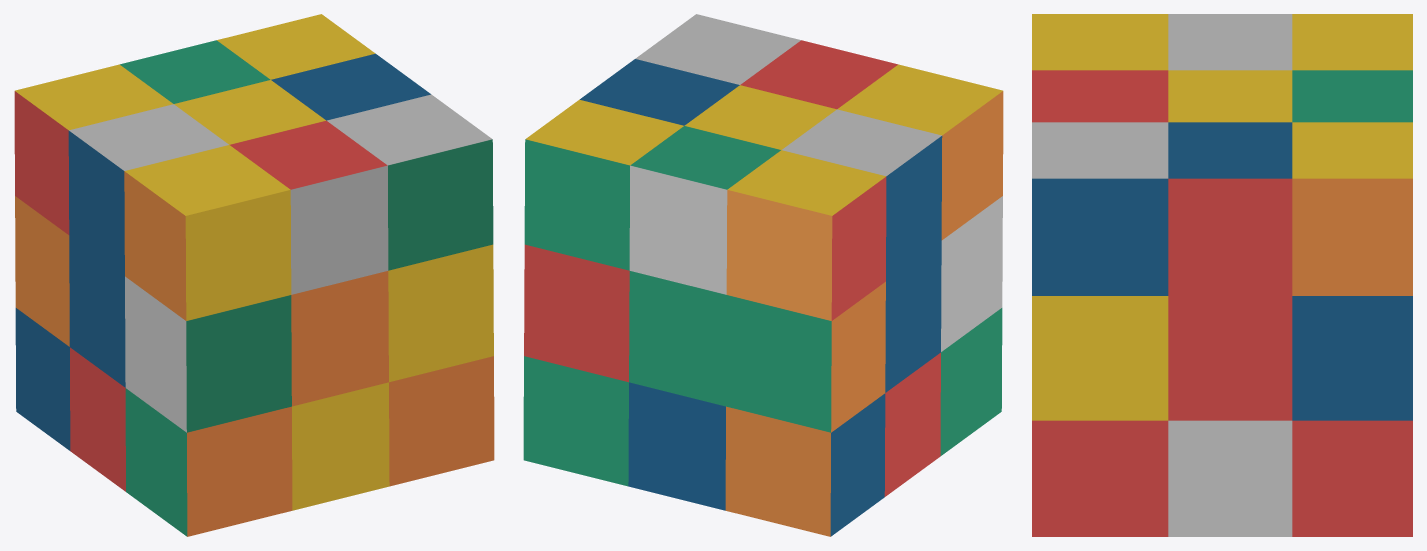
The model's file is RubixCube.glb.
3 views of the same model, side by side, from view 1: azimuth 30°, elevation 25°; view 2: azimuth 150°, elevation 25°; view 3: azimuth 270°, elevation 25° (orthographic). The views are drawn at different scales.
Visible parts, largest first — view 1: SO_RubixCube; view 2: SO_RubixCube; view 3: SO_RubixCube.
Part boxes in pixels (bbox=[...]): SO_RubixCube: bbox=[14, 14, 494, 536]; SO_RubixCube: bbox=[523, 14, 1003, 536]; SO_RubixCube: bbox=[1032, 14, 1412, 536].
Size of the model in its own units: 0.217 by 0.217 by 0.2084.
1 material, 1 textured.
